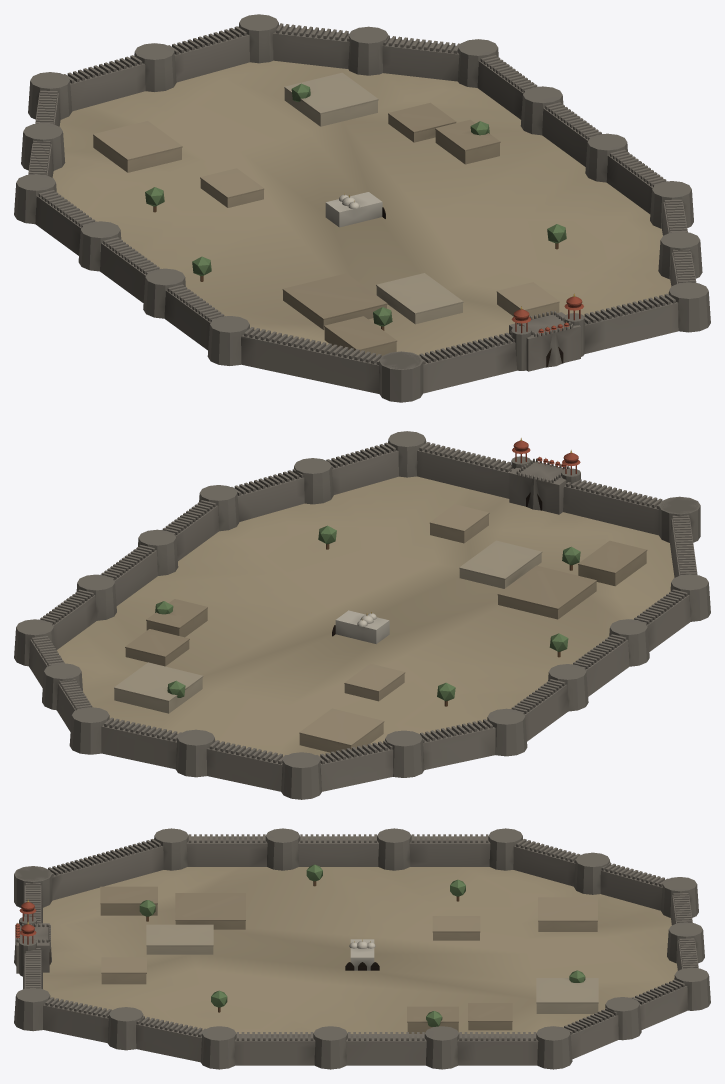
Rendered from salimgarh.glb.
3 renders of one model, top to bottom at view 1: azimuth 30°, elevation 25°; view 2: azimuth 150°, elevation 25°; view 3: azimuth 270°, elevation 25°, orthographic. The views are drawn at different scales.
Visible parts, largest first — view 1: p0_walls, p1_buildings, p2_trees; view 2: p0_walls, p1_buildings, p2_trees; view 3: p0_walls, p1_buildings, p2_trees.
Part boxes in pixels (left/top/right/bottom): p0_walls: left=14, top=14, right=710, bottom=402; p1_buildings: left=93, top=72, right=584, bottom=371; p2_trees: left=145, top=83, right=566, bottom=330; p0_walls: left=14, top=431, right=710, bottom=799; p1_buildings: left=114, top=438, right=647, bottom=753; p2_trees: left=155, top=525, right=580, bottom=706; p0_walls: left=14, top=828, right=710, bottom=1069; p1_buildings: left=15, top=886, right=598, bottom=1033; p2_trees: left=139, top=864, right=585, bottom=1026.
Bounding box in the file's own units: 212 × 24.37 × 292.
